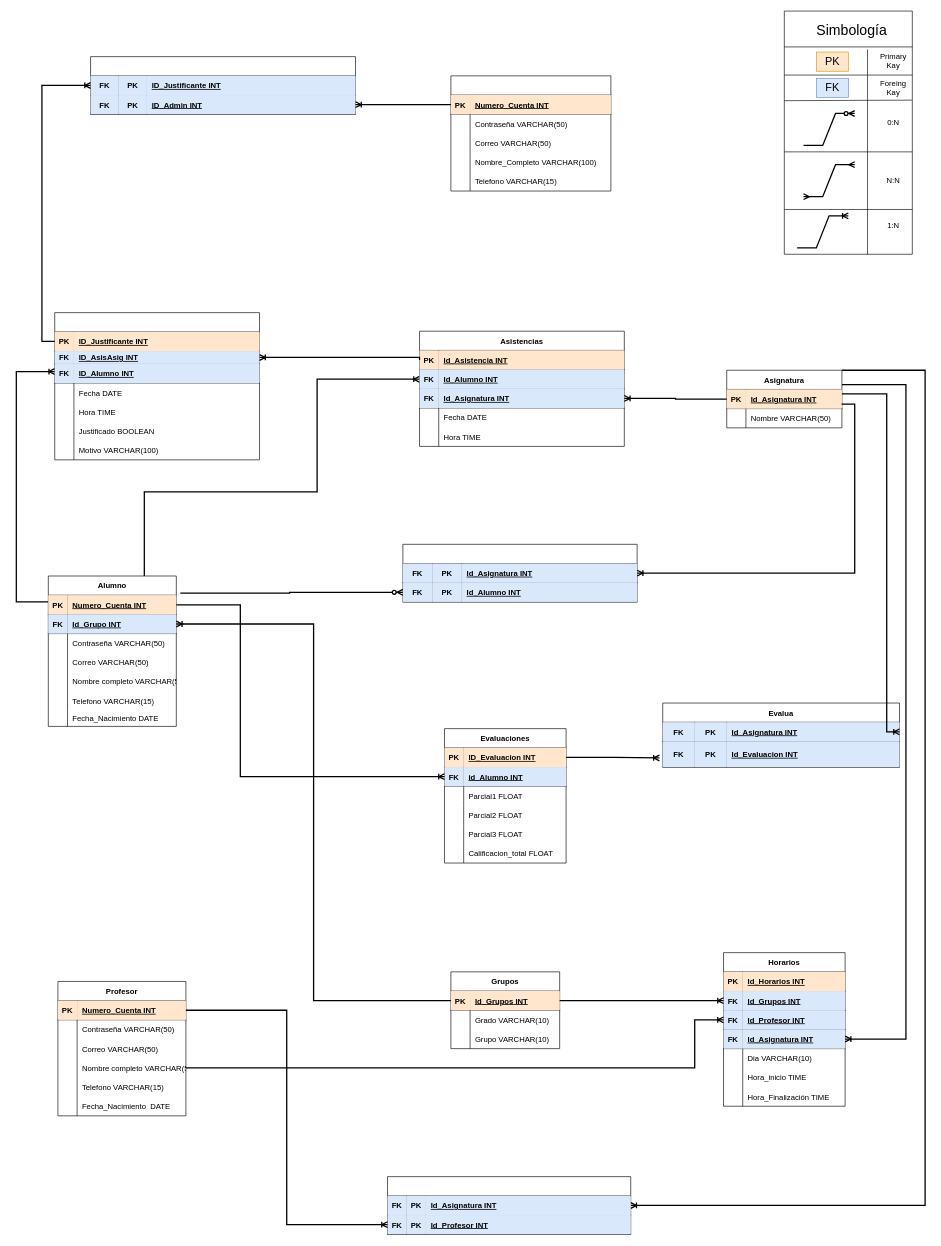
Some shapes in this 941 by 1246 pixel diagram are drawn without their labels. Each missing label, with the box of its shape:
Aceptados: (90, 56, 356, 114)
Administrador: (450, 75, 611, 191)
Imparten: (387, 1176, 631, 1234)
Justificantes: (54, 312, 260, 460)
Matriculados: (402, 544, 637, 602)
